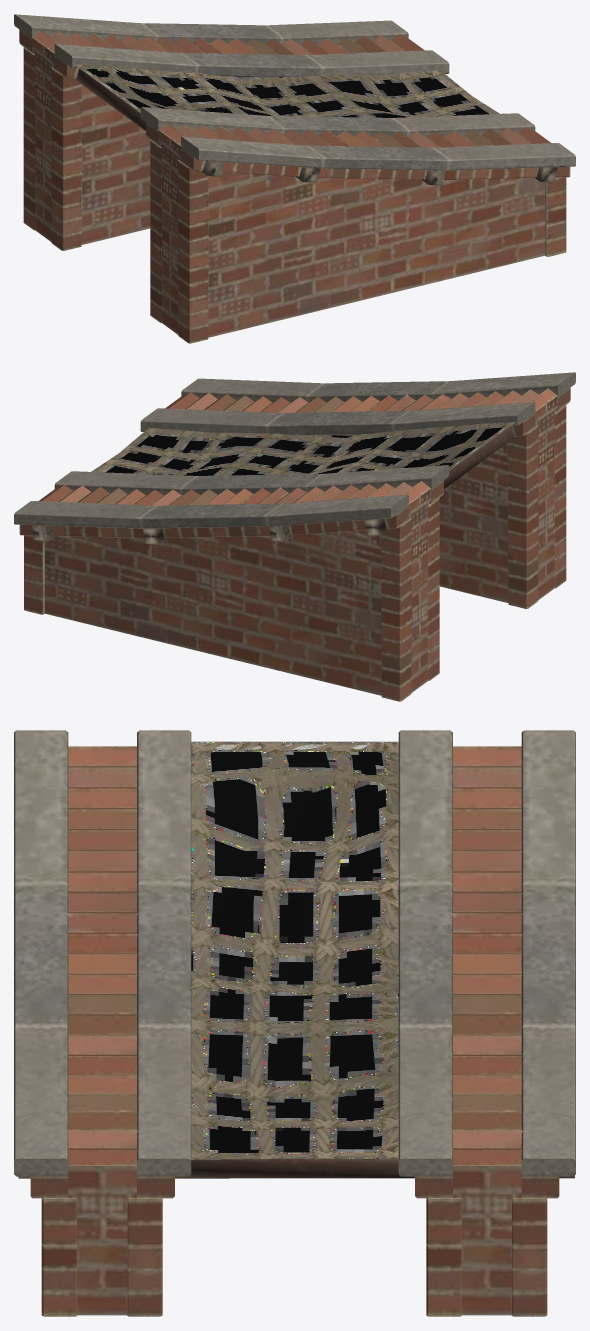
Rendered from ramp.150.brick.glb.
3 views of the same model, one above another, from view 1: azimuth 30°, elevation 25°; view 2: azimuth 150°, elevation 25°; view 3: azimuth 270°, elevation 25° (orthographic). The views are drawn at different scales.
Parts seen in each view (by area): view 1: ramp.150_LOD0; view 2: ramp.150_LOD0; view 3: ramp.150_LOD0.
Boxes of the visible parts, x1,y1,x2,y2 form: ramp.150_LOD0: (14,14,575,343); ramp.150_LOD0: (14,372,575,701); ramp.150_LOD0: (14,730,575,1316).
Size of the model in its own units: 3.02 by 1.54 by 2.56.
Materials: 2 (2 with a texture image).
